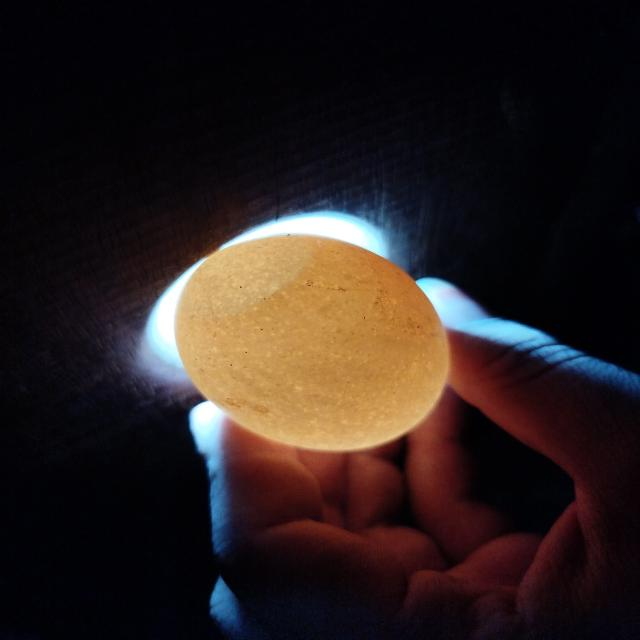Camara de Ar: (177, 234, 309, 316)
